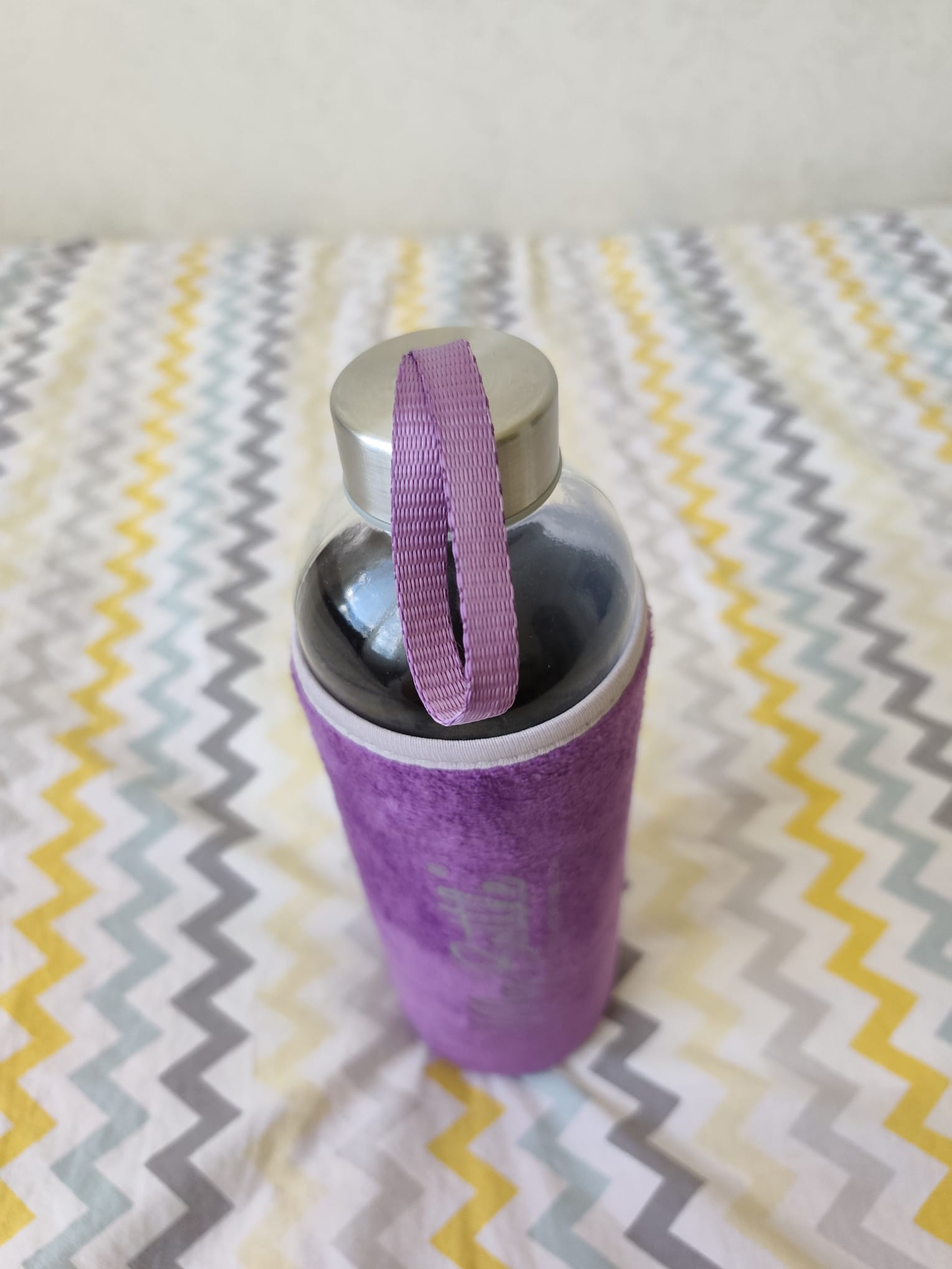su_sisesi: (271, 312, 686, 1111)
